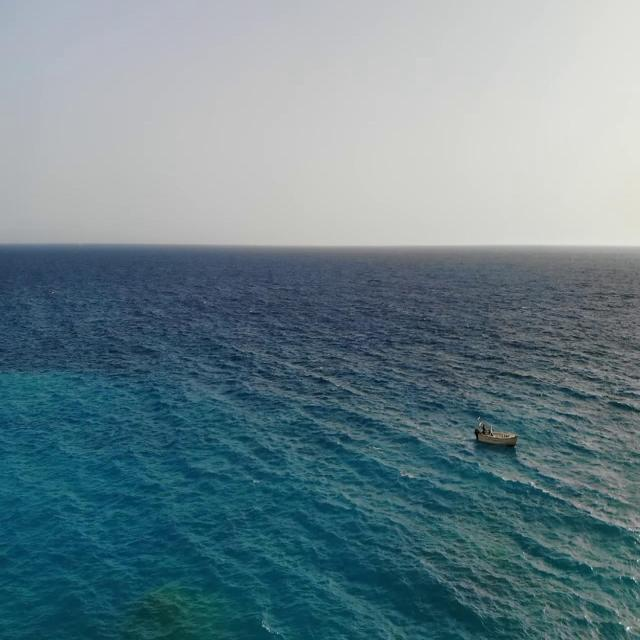boat: (471, 415, 516, 453)
